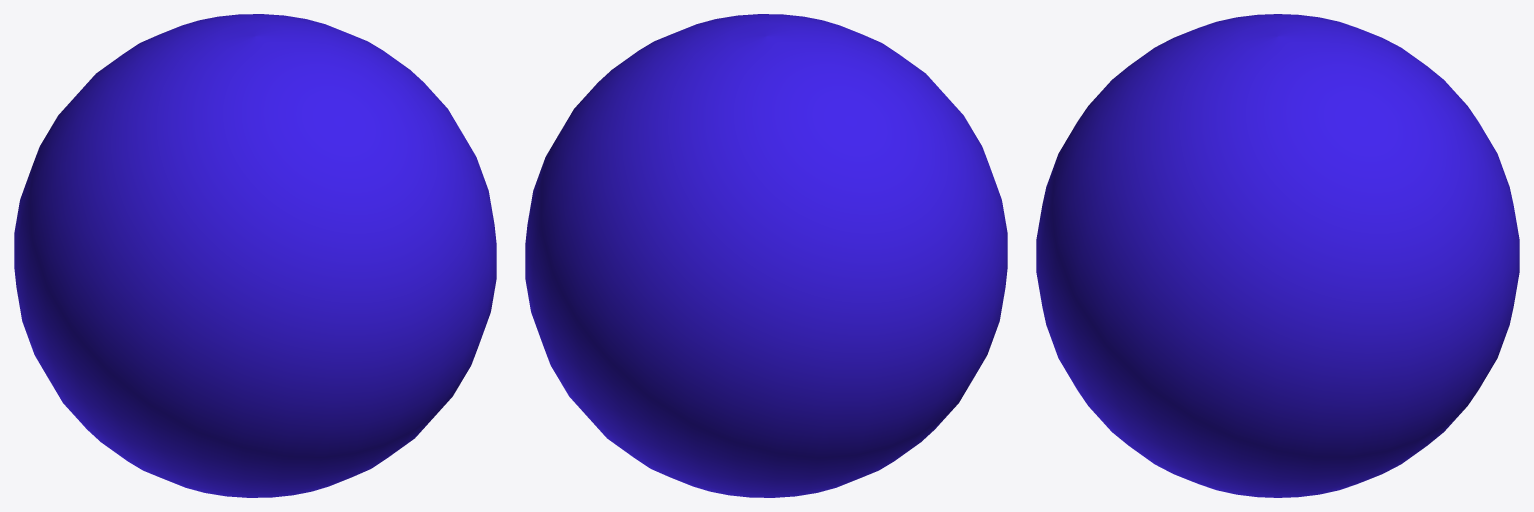
3 views of the same model, side by side, from view 1: azimuth 30°, elevation 25°; view 2: azimuth 150°, elevation 25°; view 3: azimuth 270°, elevation 25° (orthographic).
Parts seen in each view (by area): view 1: 曲面球; view 2: 曲面球; view 3: 曲面球.
Boxes of the visible parts, bbox=[...] form: 曲面球: bbox=[14, 14, 496, 497]; 曲面球: bbox=[525, 14, 1007, 497]; 曲面球: bbox=[1036, 14, 1519, 497].
Size of the model in its own units: 1.99 by 2 by 1.99.
